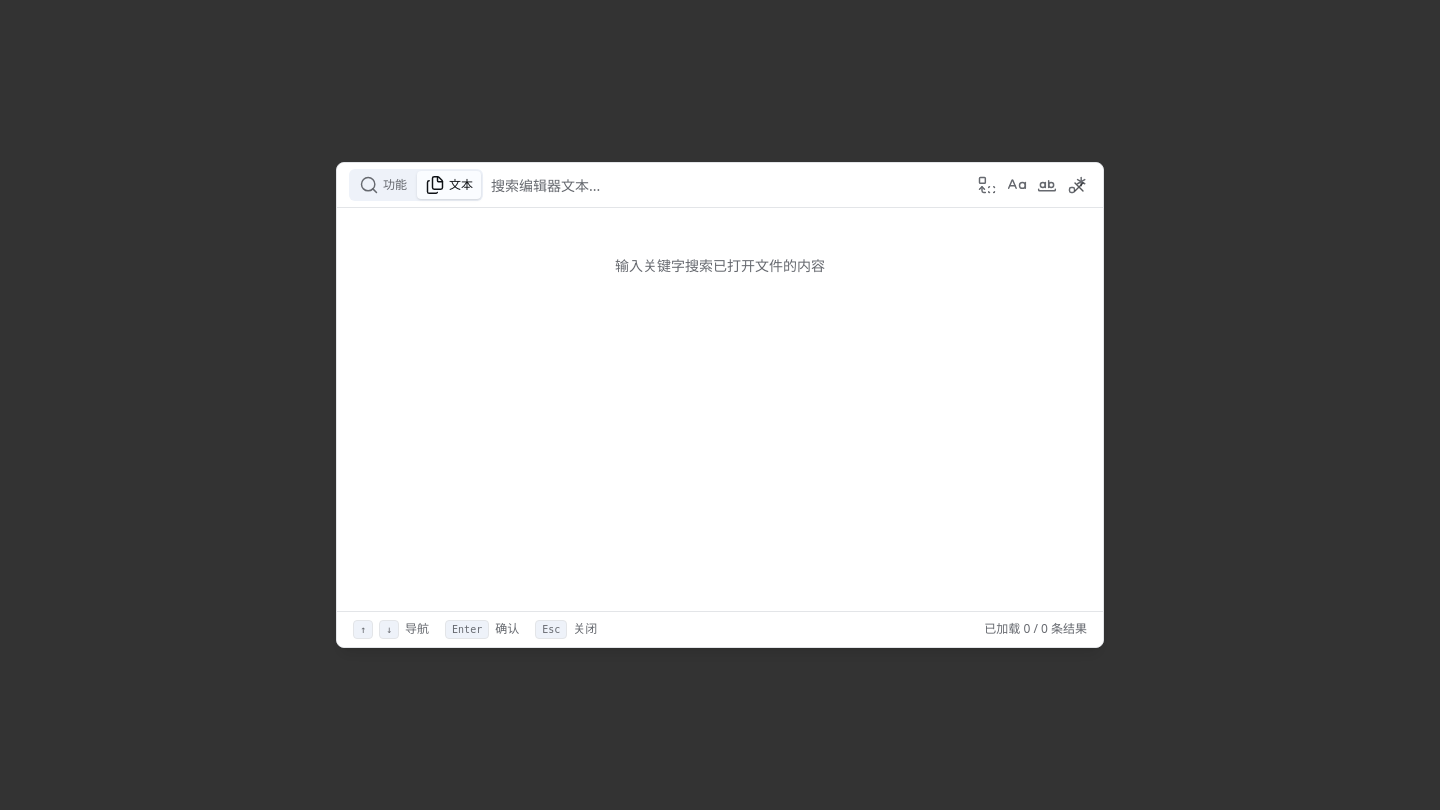
Test case: SearchDialog 跨文件查找替换 › 切换到功能模式时替换栏收起(跨模式残留清理)
The width and height of the screenshot is (1440, 810).
Click the button with test id "search-toggle-replace" at (987, 185), box [973,171,1001,199]
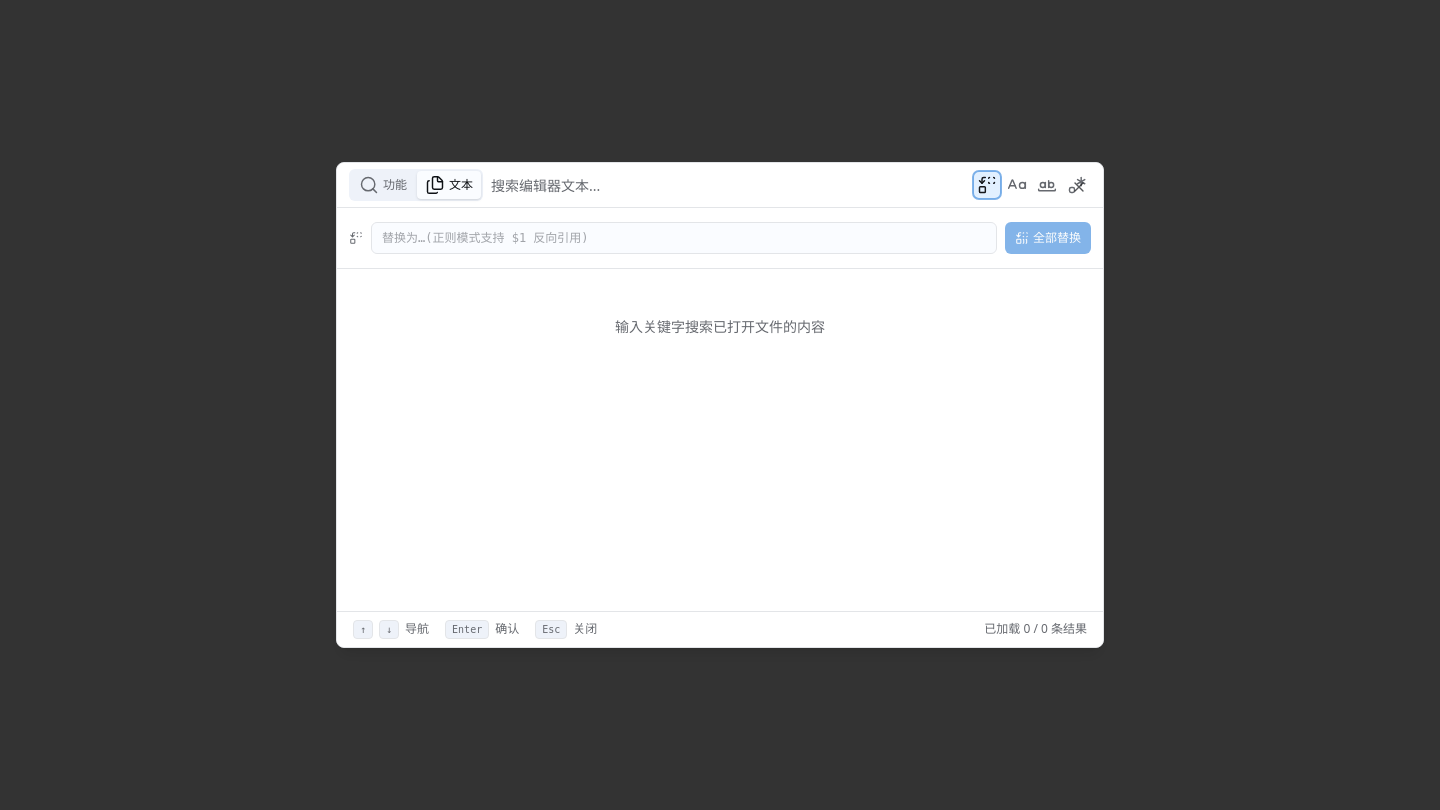
Expected: the element with test id "search-replace-bar" is shown, [349,216,1091,260]
Click the button "功能" at (383, 185), box [351,171,415,199]
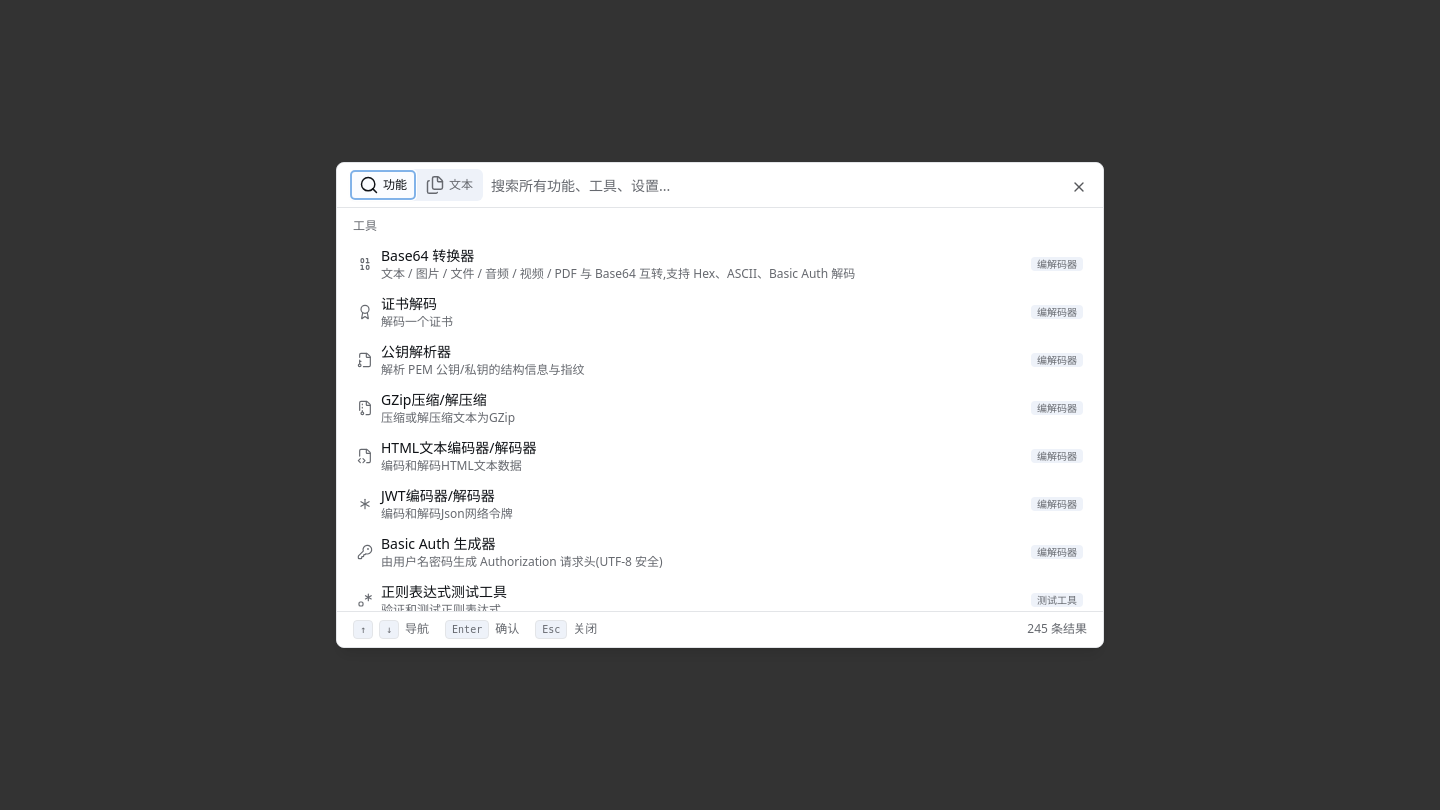
Expected: the element with test id "search-replace-bar" is gone
